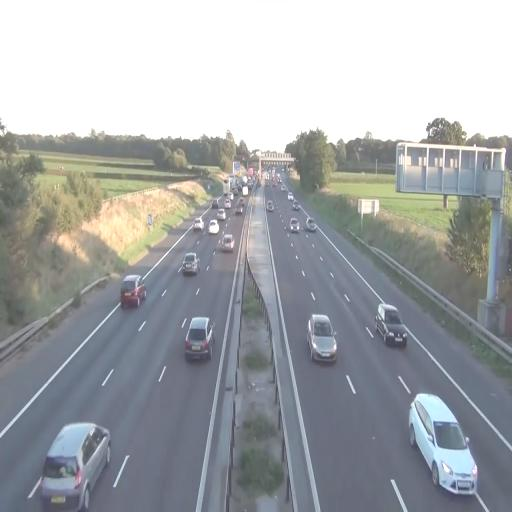vehicle: (408, 391, 478, 495), (40, 421, 112, 510), (307, 314, 338, 364), (375, 302, 407, 348), (184, 316, 213, 363), (120, 272, 146, 310), (182, 252, 199, 276), (219, 232, 235, 252), (208, 218, 220, 237), (193, 217, 204, 232), (290, 217, 300, 232), (306, 220, 316, 233)
